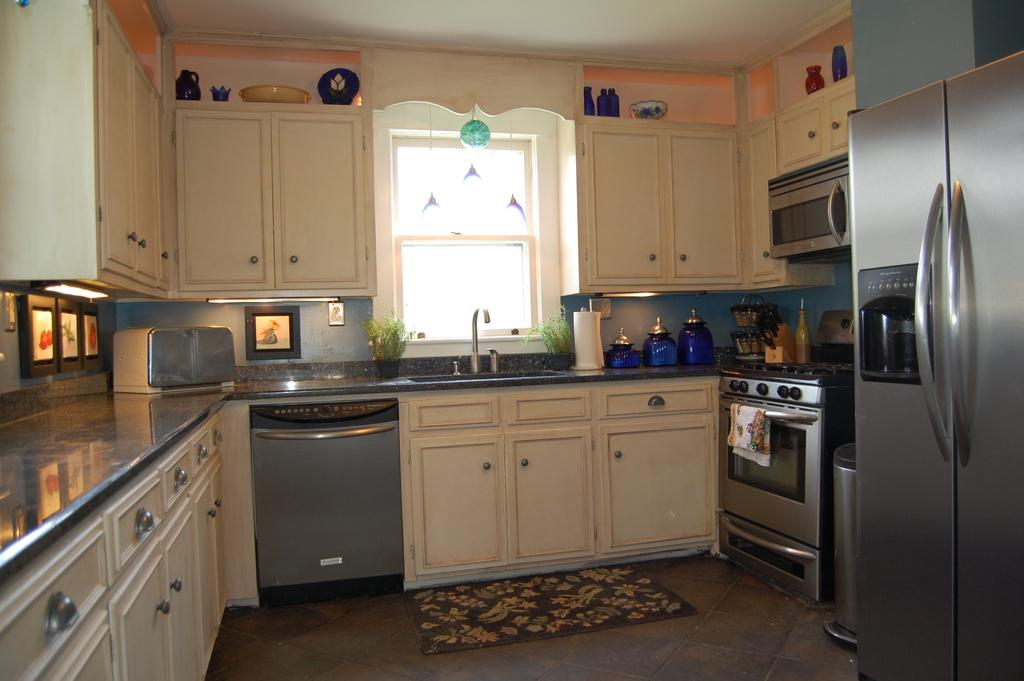cabinet_door: (603, 421, 717, 541), (178, 120, 264, 279), (278, 125, 358, 281), (589, 124, 664, 290), (412, 440, 502, 564), (670, 128, 736, 274), (510, 438, 586, 550), (100, 42, 134, 254), (136, 91, 164, 276), (18, 568, 110, 622), (164, 534, 202, 640), (130, 578, 168, 681), (610, 387, 716, 423), (744, 135, 771, 276), (196, 505, 222, 594), (115, 498, 173, 532), (782, 114, 824, 150), (158, 458, 196, 494), (826, 102, 850, 146), (188, 434, 218, 464)
handle: (939, 184, 985, 453), (898, 197, 944, 455), (41, 594, 81, 634), (819, 187, 845, 243), (135, 509, 157, 534), (150, 598, 172, 622), (646, 388, 672, 408), (281, 245, 303, 268), (172, 468, 194, 489), (212, 491, 228, 517), (168, 579, 190, 597), (647, 248, 660, 268), (675, 249, 695, 262), (248, 254, 262, 272), (198, 442, 210, 462), (806, 123, 818, 142), (206, 506, 220, 522), (123, 225, 136, 242), (476, 461, 495, 472), (829, 118, 845, 130), (514, 457, 532, 467), (614, 448, 626, 461), (137, 236, 147, 250), (159, 247, 168, 261)
